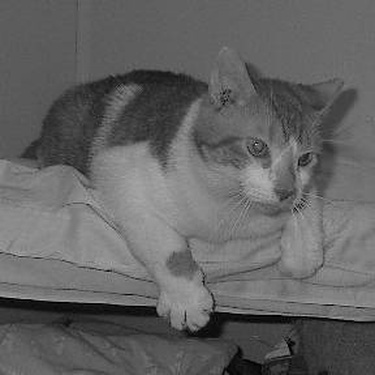cat: (15, 43, 343, 333)
